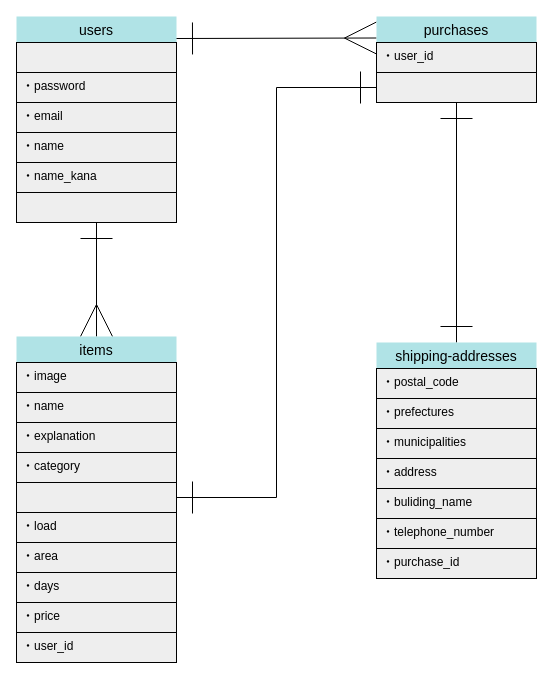
Image size: 553x679. Some labels were removed from this diagram. Here are the shapes that lost their labels. From the top down, the centre of each, then its label:
point 96,57: ・nickname
point 456,87: ・item_id
point 96,207: ・birthday
point 96,497: ・situation
